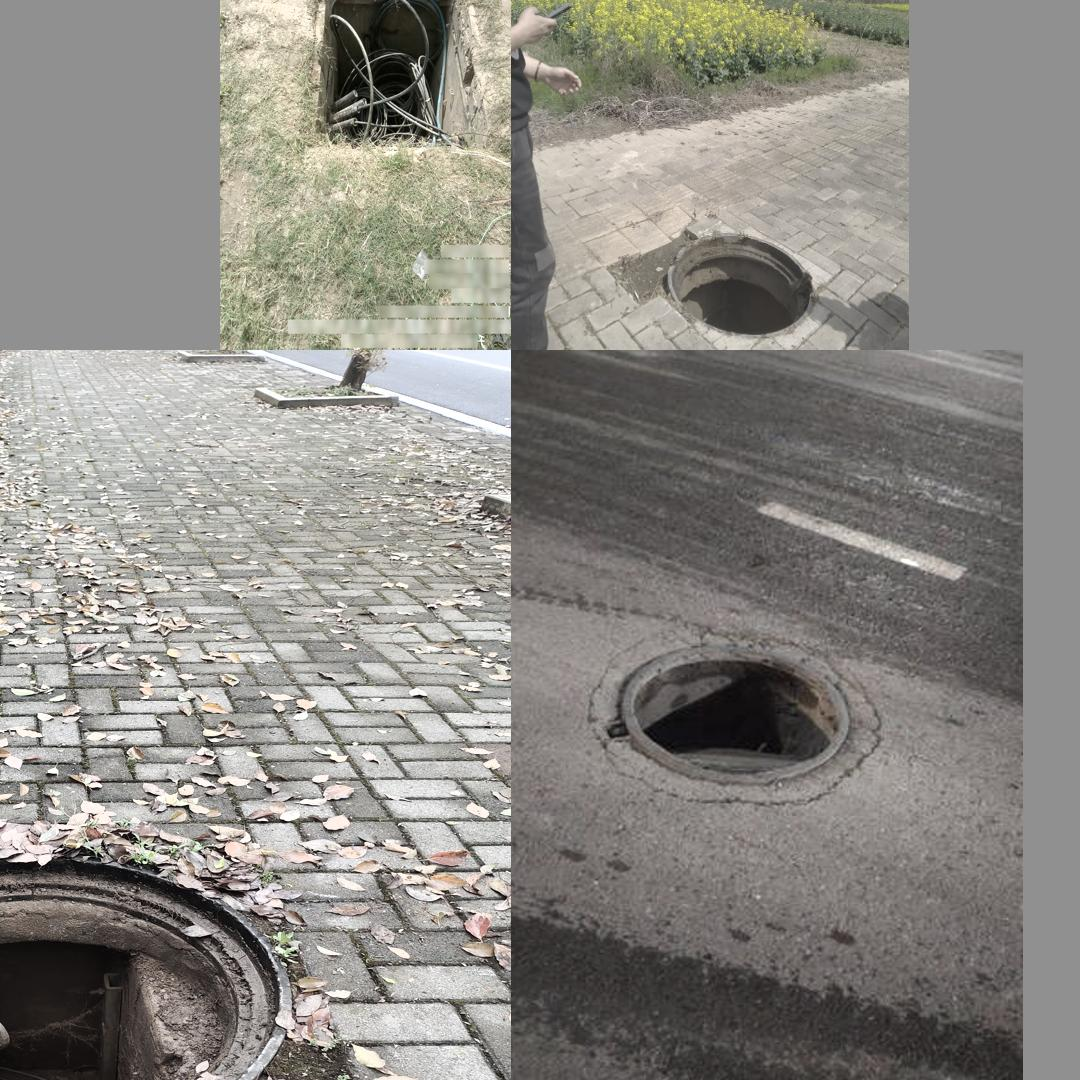lose: (0, 849, 280, 1080), (583, 625, 897, 811), (308, 0, 489, 151), (666, 235, 814, 335)
